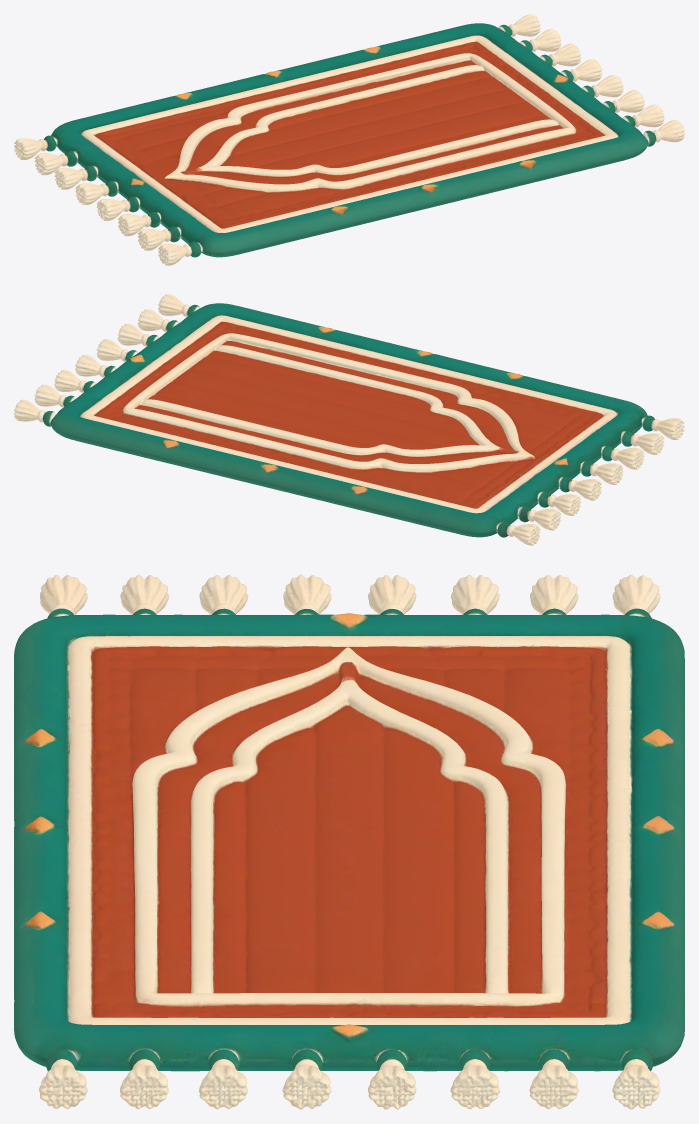
Rendered from prayer-rug-variant-01-terracotta-double-arch.glb.
3 views of the same model, one above another, from view 1: azimuth 30°, elevation 25°; view 2: azimuth 150°, elevation 25°; view 3: azimuth 270°, elevation 25° (orthographic). The views are drawn at different scales.
Visible parts, largest first — view 1: mesh_node; view 2: mesh_node; view 3: mesh_node.
Boxes of the visible parts, box(x1,y1,x2,y2) form: mesh_node: box(14, 14, 684, 265); mesh_node: box(14, 294, 684, 545); mesh_node: box(14, 574, 684, 1109).
Size of the model in its own units: 1.9 by 0.0739 by 1.07.
1 material, 1 textured.
